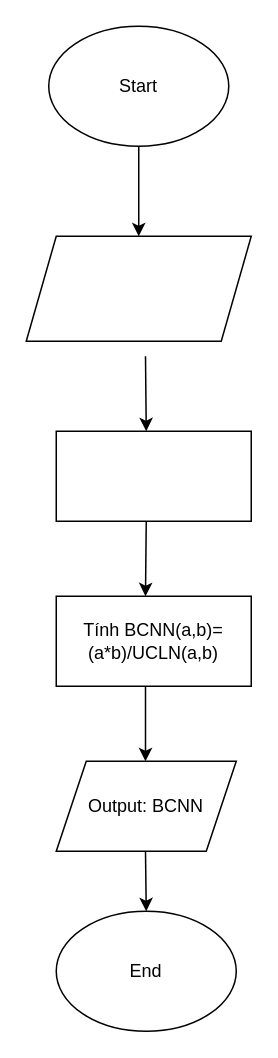
The diagram is 278 pixels wide and 1058 high, and some of its shapes have lost their labels. Here are the shapes that lost their labels. From the top down, the centre of each, then its label:
At point (138, 288): "Input: Nhập a,b".
At point (153, 475): "Tính UCLN(a,b)".
